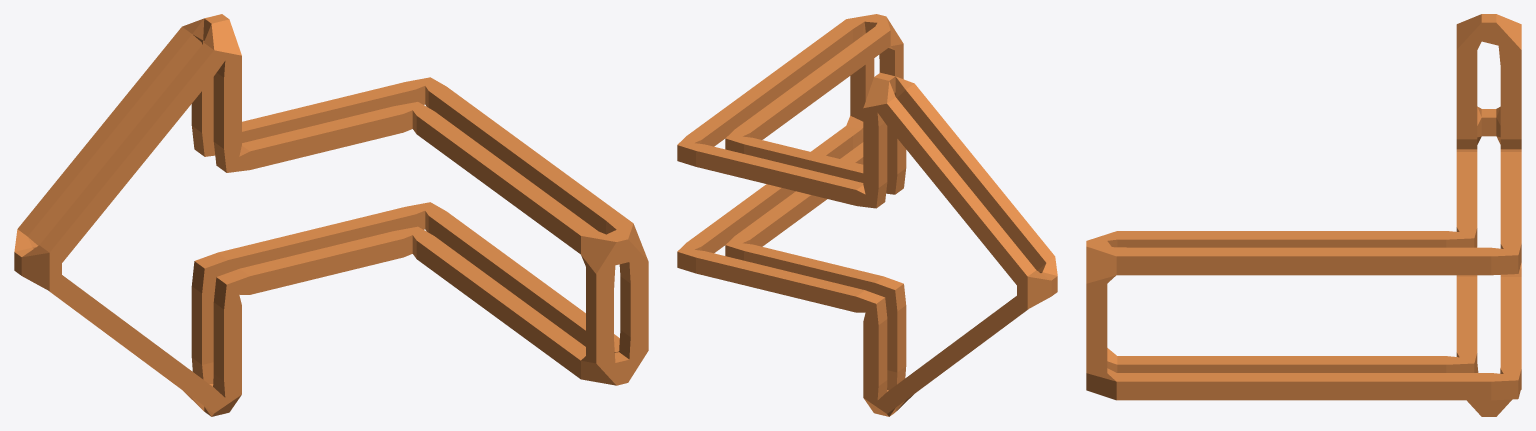
File: стрелочка.fbx
3 views of the same model, side by side, from view 1: azimuth 30°, elevation 25°; view 2: azimuth 150°, elevation 25°; view 3: azimuth 270°, elevation 25° (orthographic). The views are drawn at different scales.
Parts seen in each view (by area): view 1: Стрелка; view 2: Стрелка; view 3: Стрелка.
Part boxes in pixels (left/top/right/bottom): Стрелка: left=14, top=14, right=648, bottom=416; Стрелка: left=677, top=14, right=1057, bottom=416; Стрелка: left=1086, top=14, right=1521, bottom=416.
Size of the model in its own units: 2.4 by 2.1 by 2.1.
